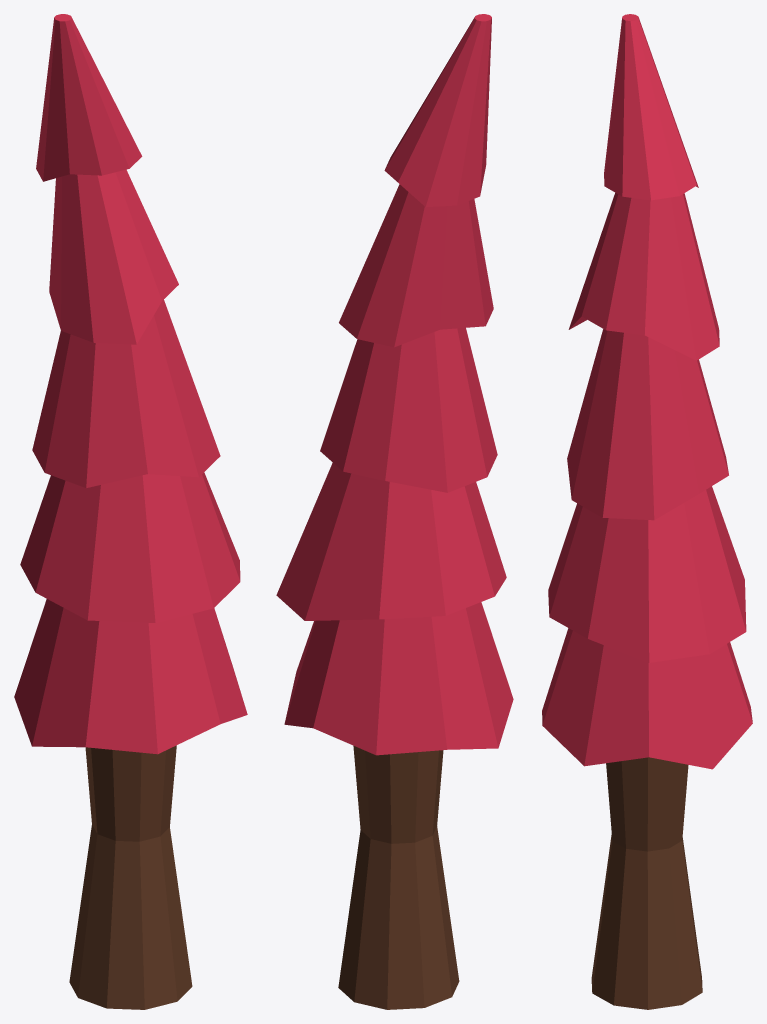
Rendered from Natures2t4-purple.fbx.
The picture shows the model from 3 angles, left to right: view 1: azimuth 30°, elevation 25°; view 2: azimuth 150°, elevation 25°; view 3: azimuth 270°, elevation 25°; orthographic projection. The views are drawn at different scales.
Parts seen in each view (by area): view 1: t4-purple; view 2: t4-purple; view 3: t4-purple.
Part boxes in pixels (left/top/right/bottom): t4-purple: left=14, top=14, right=247, bottom=1009; t4-purple: left=276, top=14, right=513, bottom=1009; t4-purple: left=542, top=14, right=752, bottom=1009.
Size of the model in its own units: 224 by 1009 by 207.
